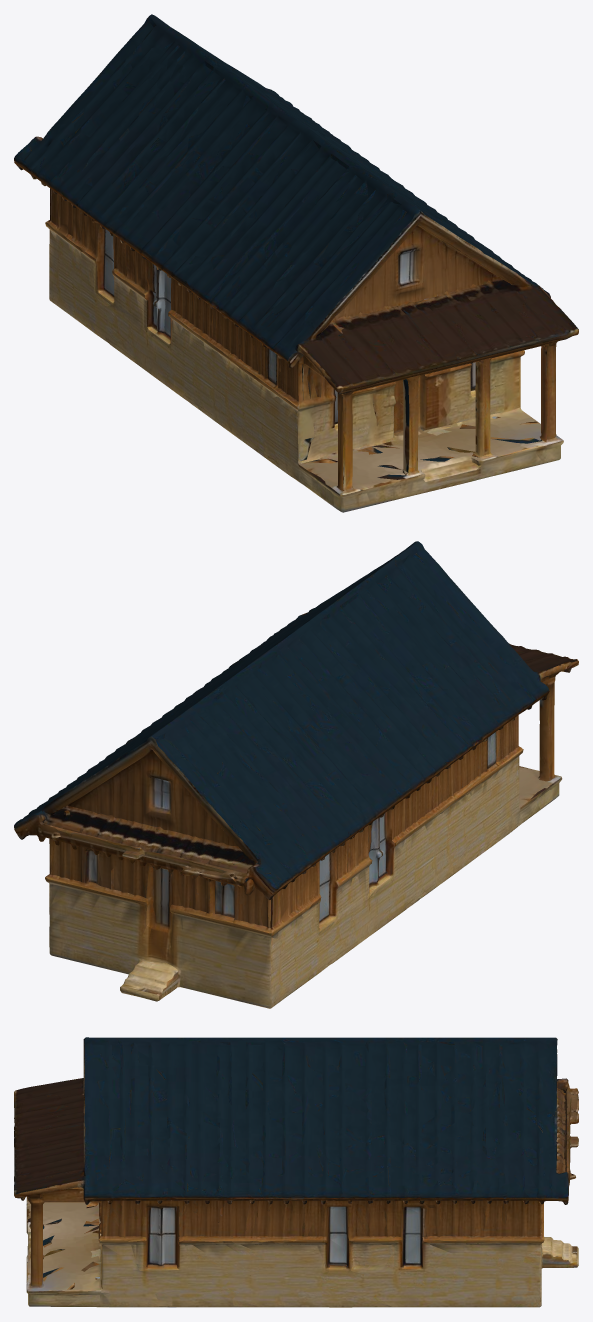
File: caretaker-cottage.glb
3 renders of one model, top to bottom at view 1: azimuth 30°, elevation 25°; view 2: azimuth 150°, elevation 25°; view 3: azimuth 270°, elevation 25°, orthographic. The views are drawn at different scales.
Parts seen in each view (by area): view 1: textured_mesh; view 2: textured_mesh; view 3: textured_mesh.
Boxes of the visible parts, box(x1,y1,x2,y2) form: textured_mesh: box(14, 14, 578, 512); textured_mesh: box(14, 541, 578, 1008); textured_mesh: box(14, 1037, 578, 1307).
Bounding box in the file's own units: 0.9461 × 0.8682 × 1.99.
Materials: 1 (1 with a texture image).
